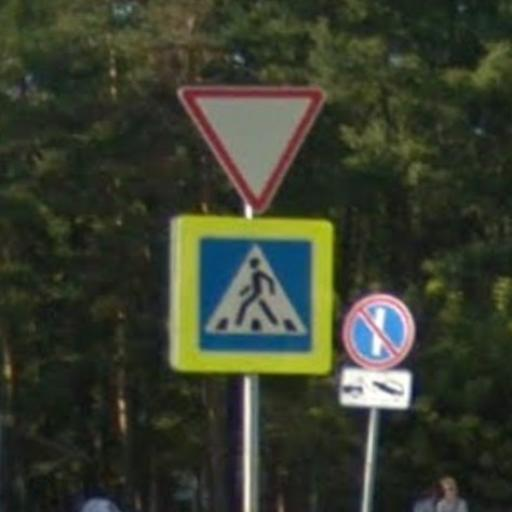traffic_sign: (166, 214, 339, 381), (177, 83, 327, 216)
